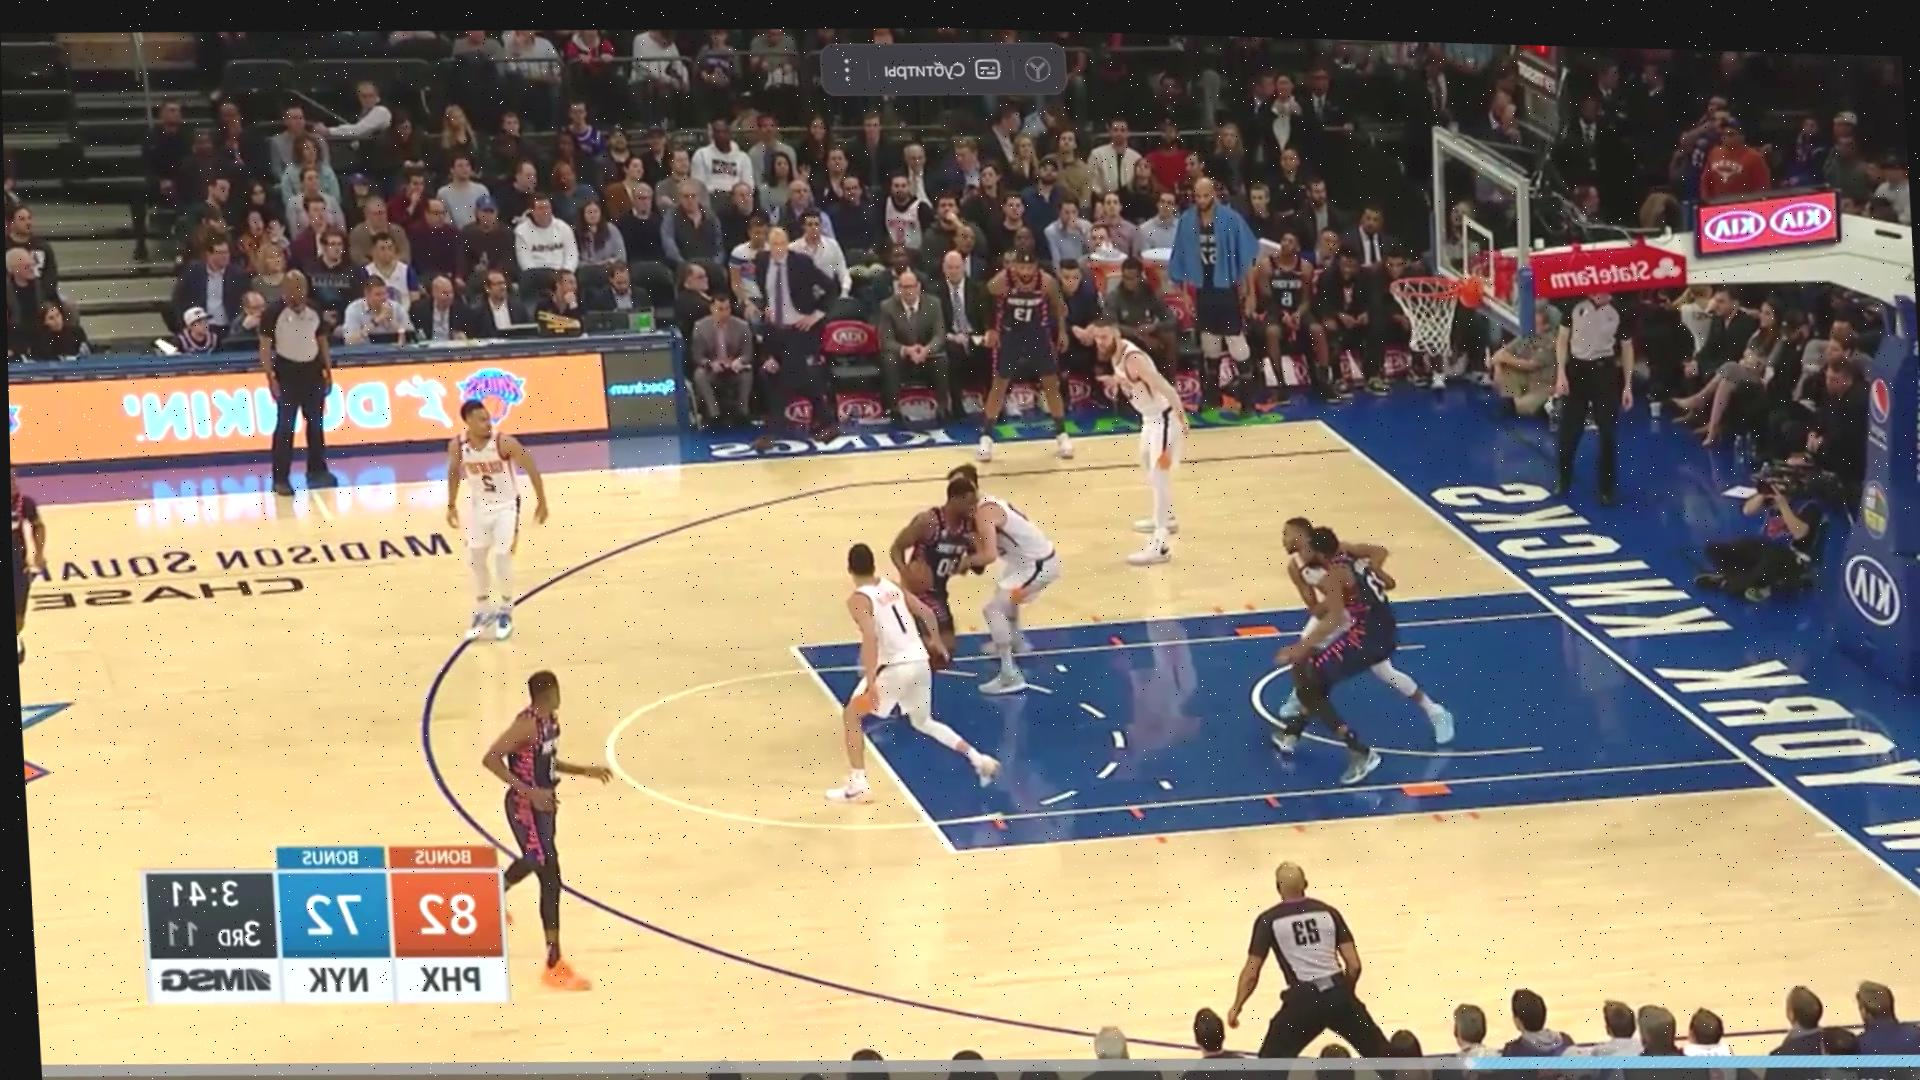foul: (870, 451, 1063, 723)
